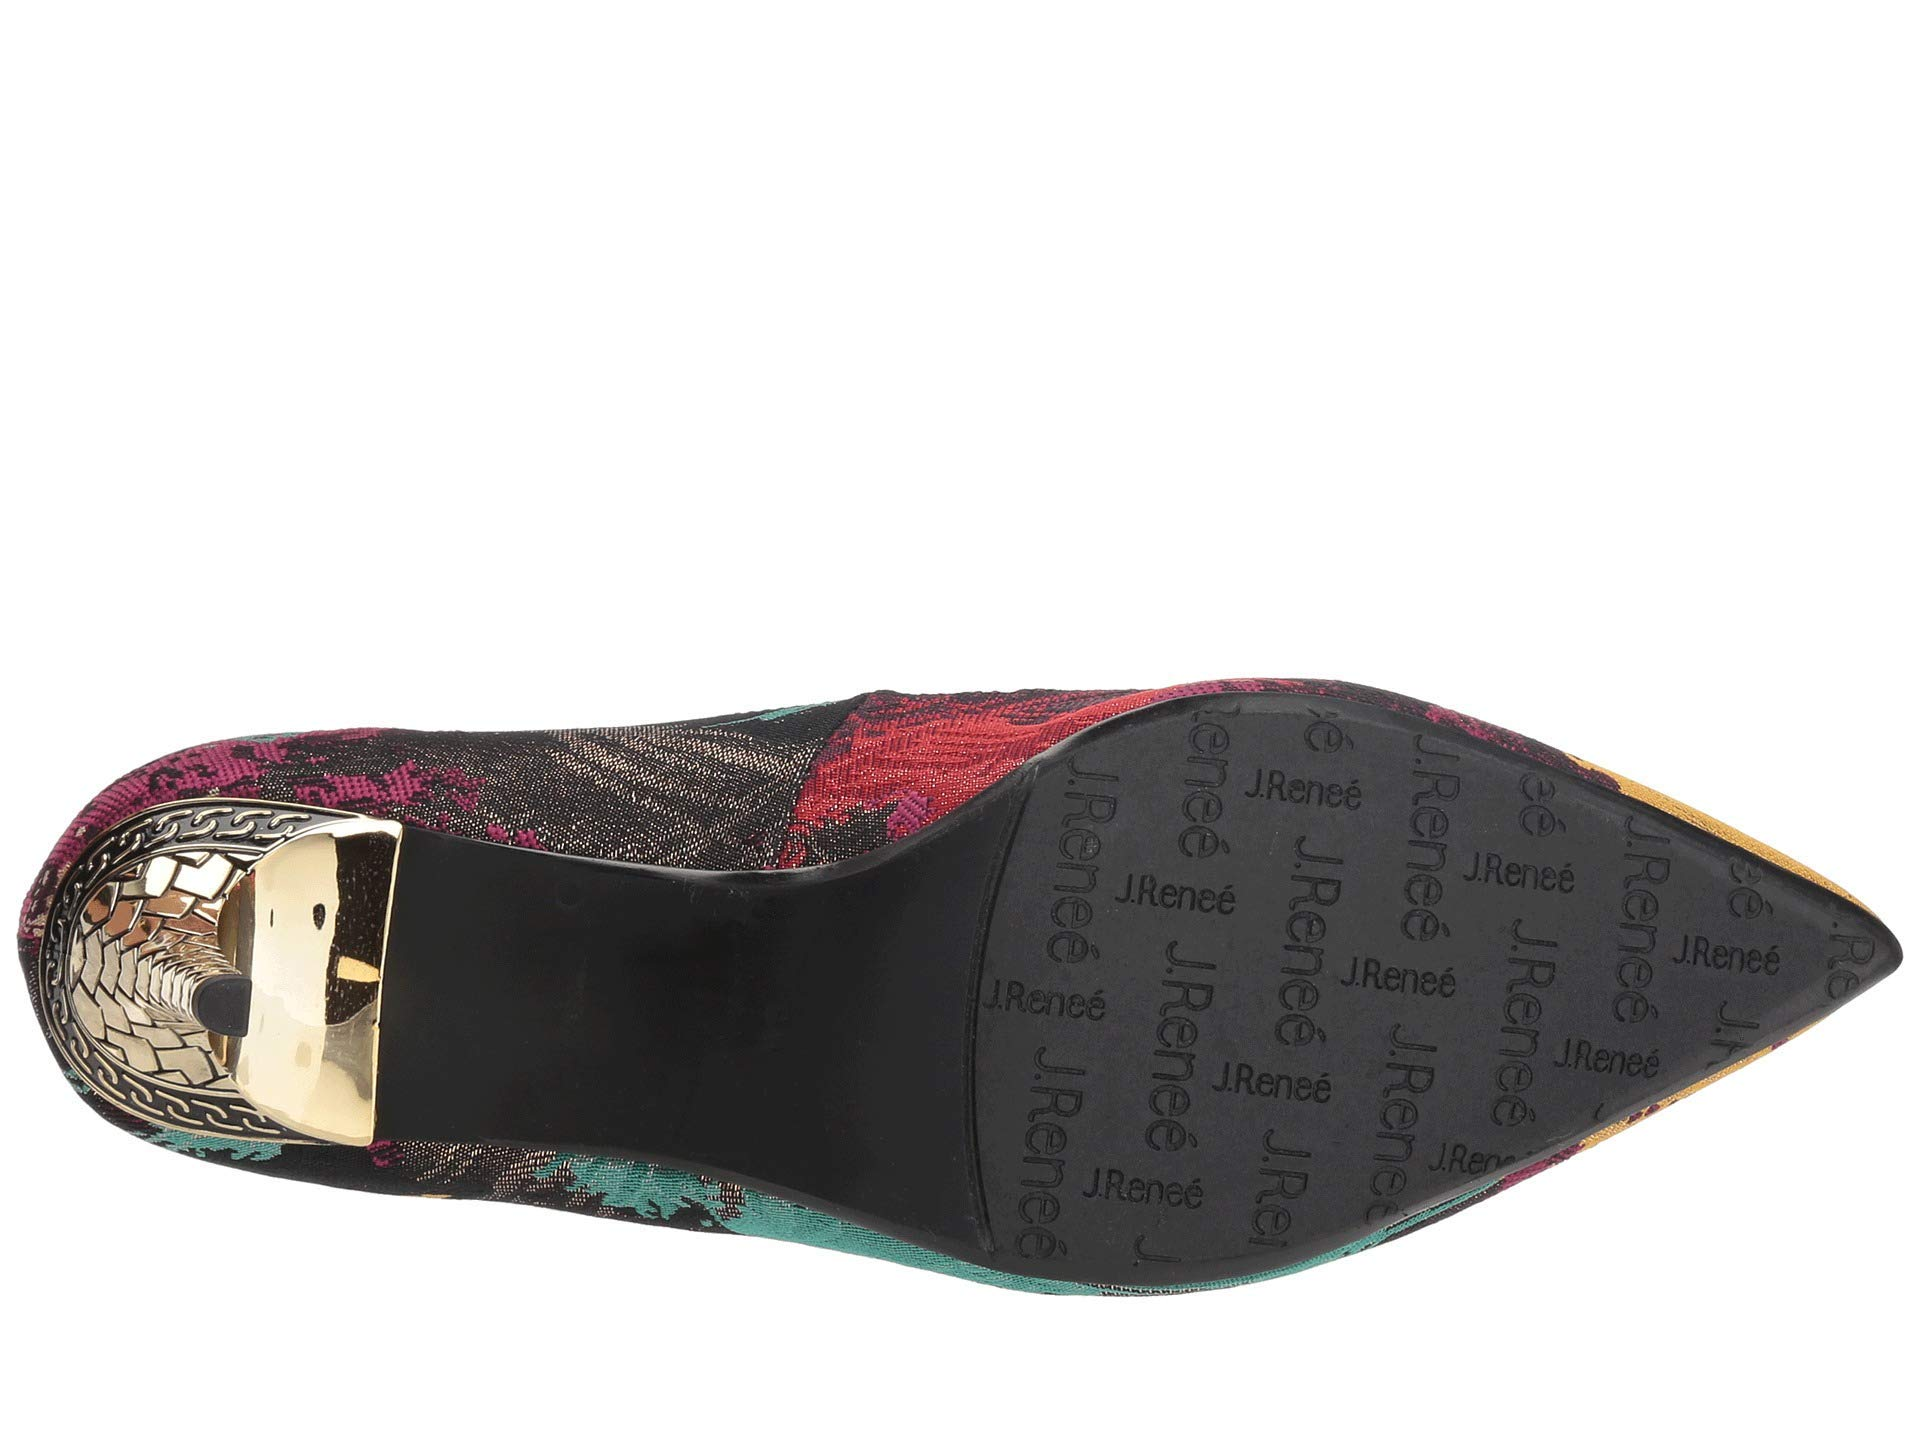exclude: (2, 626, 1034, 1339)
text: (1079, 767, 1488, 1181), (1501, 821, 1720, 1053)
